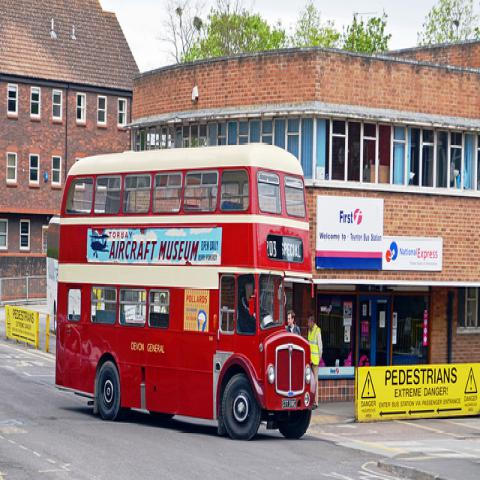bus: (55, 140, 318, 439)
